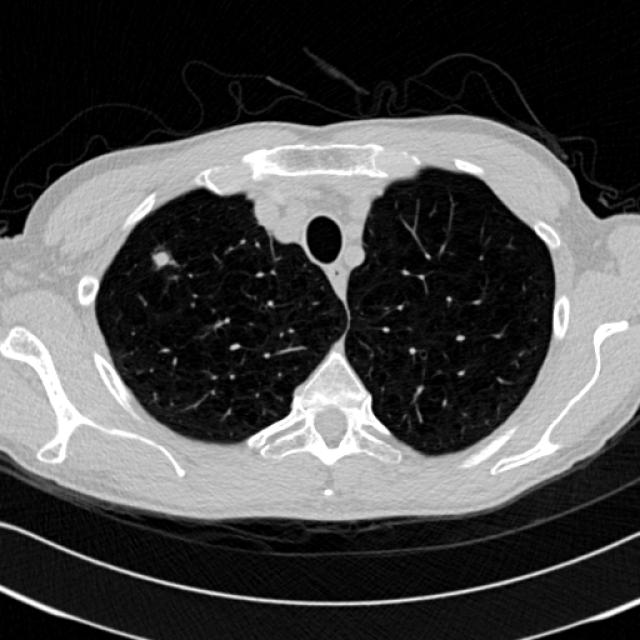nodule: (142, 240, 178, 275)
